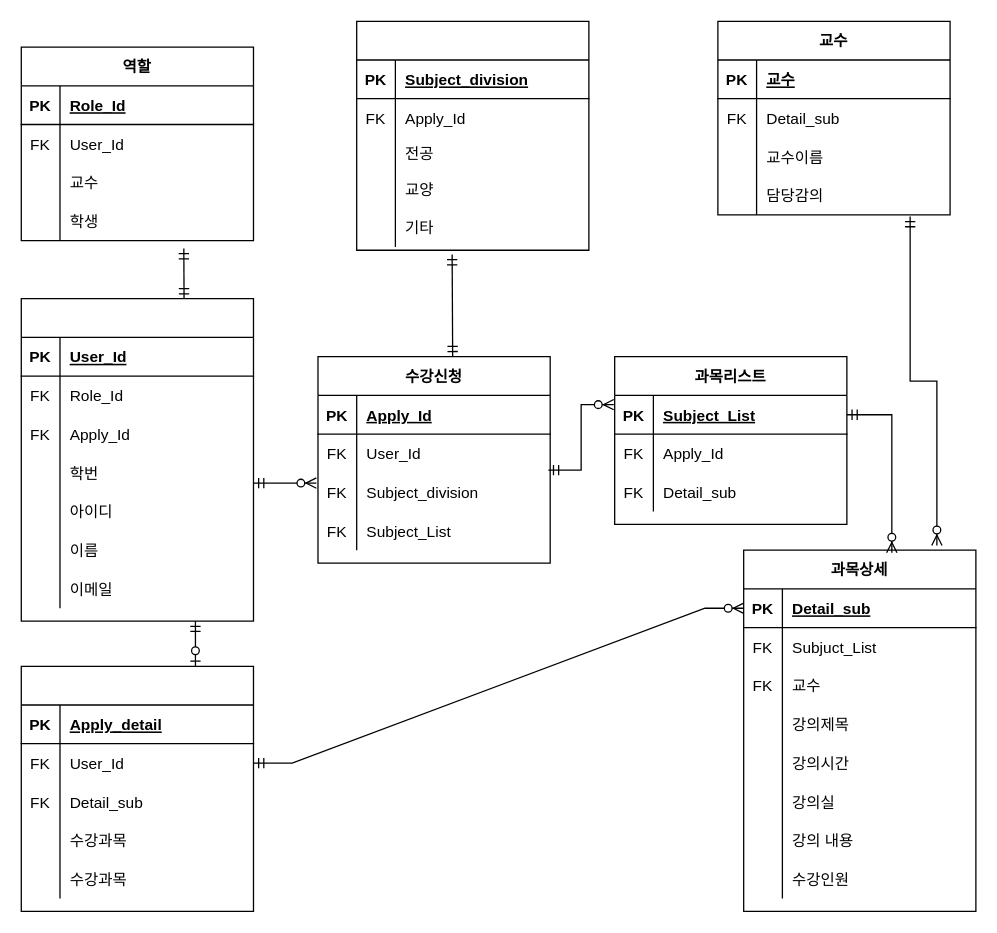
Some shapes in this 997 by 933 pixel diagram are drawn without their labels. The box of each missing label's shape, as (x1, y1, x2, y2) in pixels:
분류: (355, 20, 589, 250)
사용자: (20, 297, 253, 621)
수강신청이력: (20, 665, 253, 911)
